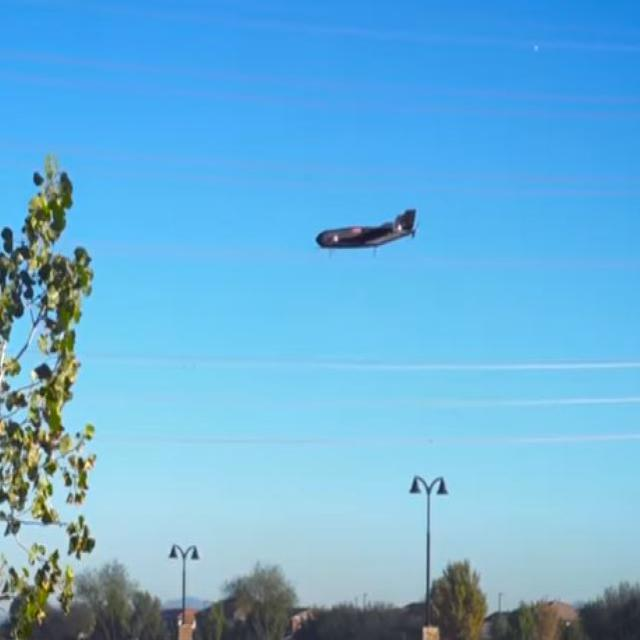iha: (347, 207, 389, 262)
